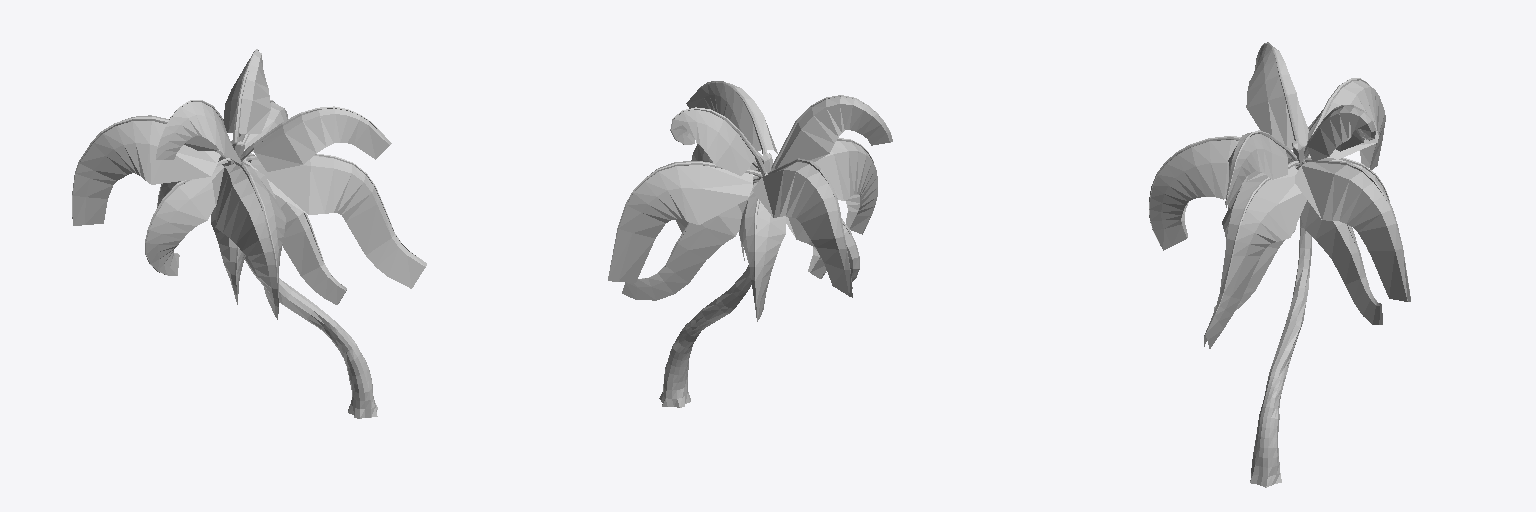
Rendered from Palm_Desktop.OBJ.
3 renders of one model, left to right at view 1: azimuth 30°, elevation 25°; view 2: azimuth 150°, elevation 25°; view 3: azimuth 270°, elevation 25°, orthographic.
Size of the model in its own units: 5.49 by 6.85 by 4.65.